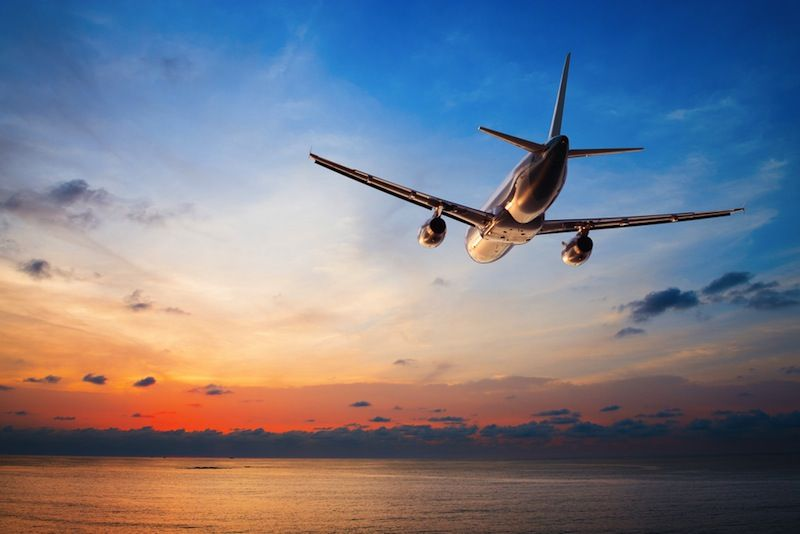plane: (308, 50, 747, 270)
